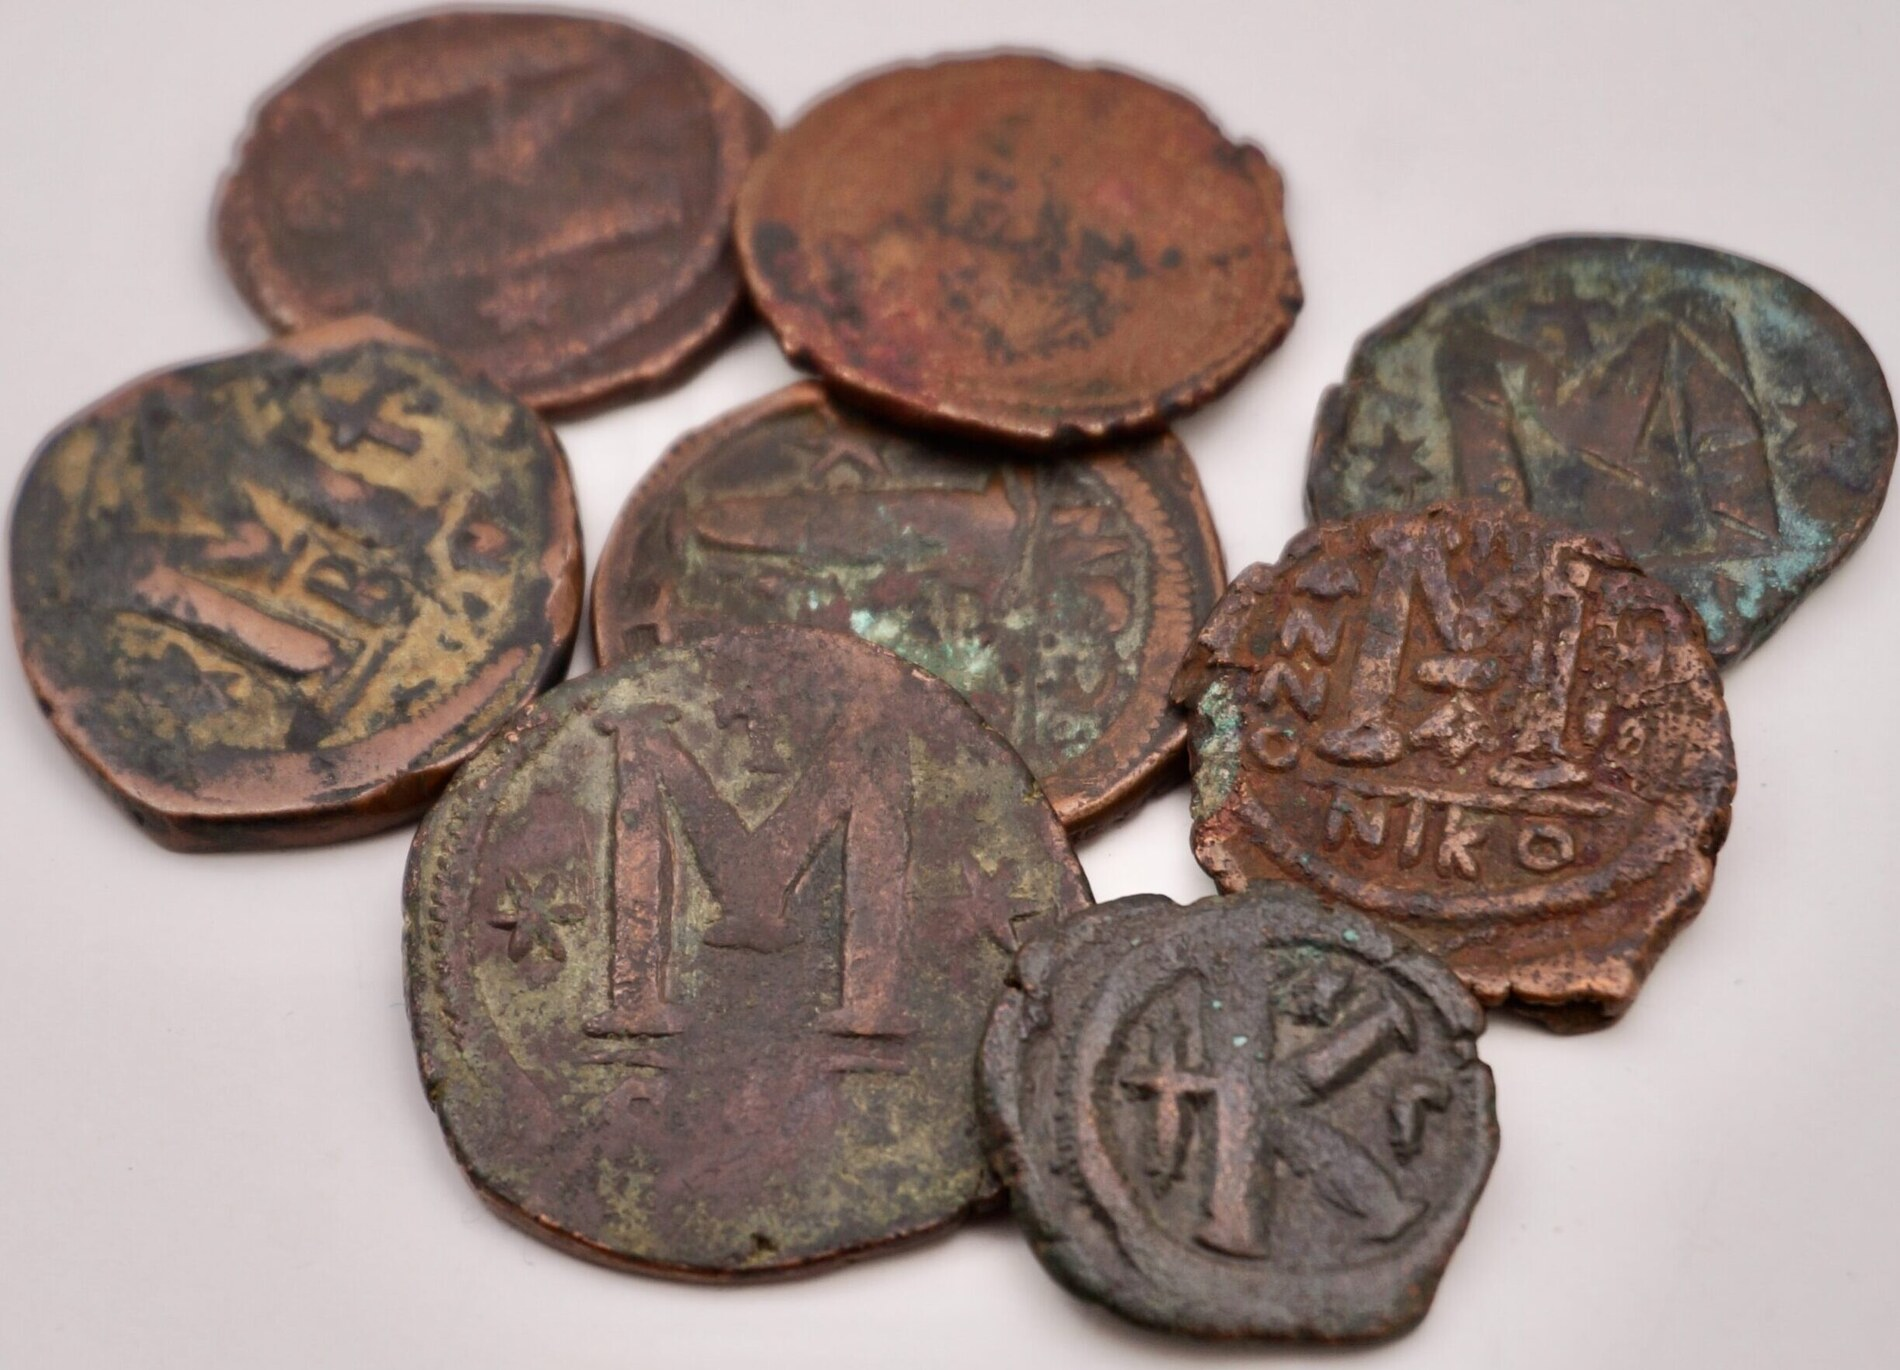coin: (404, 624, 1098, 1289), (12, 316, 603, 855), (578, 378, 1230, 855), (1176, 491, 1742, 1038), (1311, 229, 1896, 698), (981, 891, 1514, 1370), (729, 38, 1316, 465), (207, 16, 773, 407)
